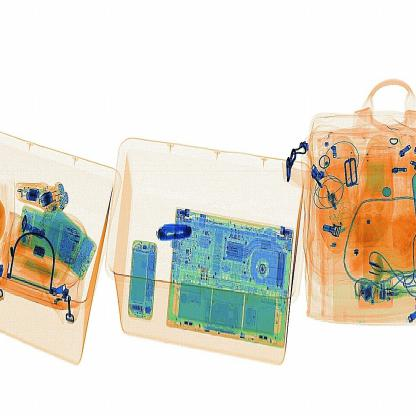scissors: (153, 219, 195, 247)
